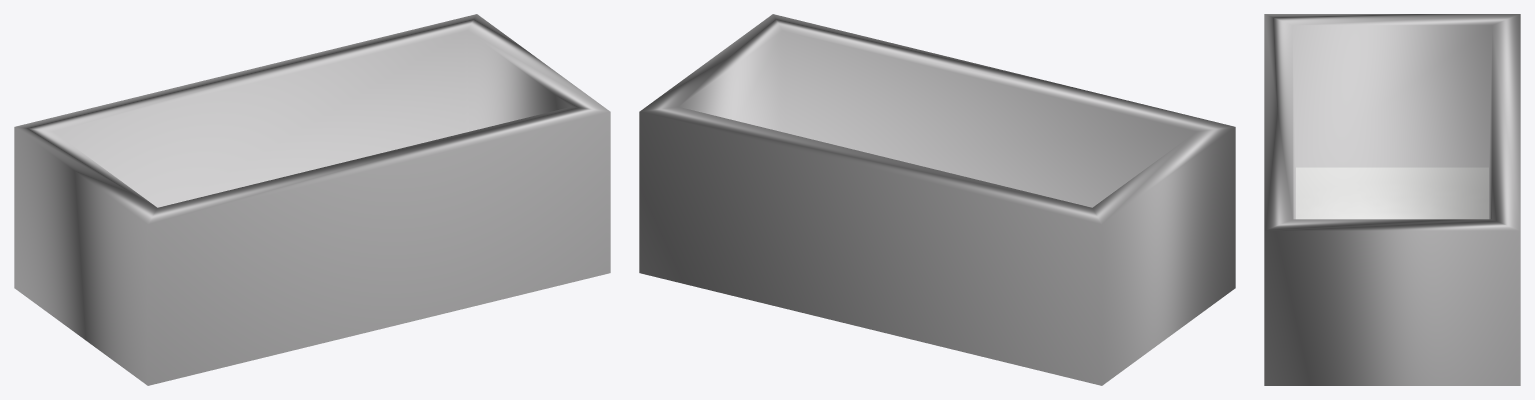
File: Bathtub.fbx
3 views of the same model, side by side, from view 1: azimuth 30°, elevation 25°; view 2: azimuth 150°, elevation 25°; view 3: azimuth 270°, elevation 25° (orthographic). The views are drawn at different scales.
Visible parts, largest first — view 1: Bathtub_1; view 2: Bathtub_1; view 3: Bathtub_1.
Boxes of the visible parts, box(x1,y1,x2,y2) form: Bathtub_1: box(14, 14, 610, 385); Bathtub_1: box(639, 14, 1235, 385); Bathtub_1: box(1264, 14, 1520, 385).
Size of the model in its own units: 183 by 60.96 by 91.44.
